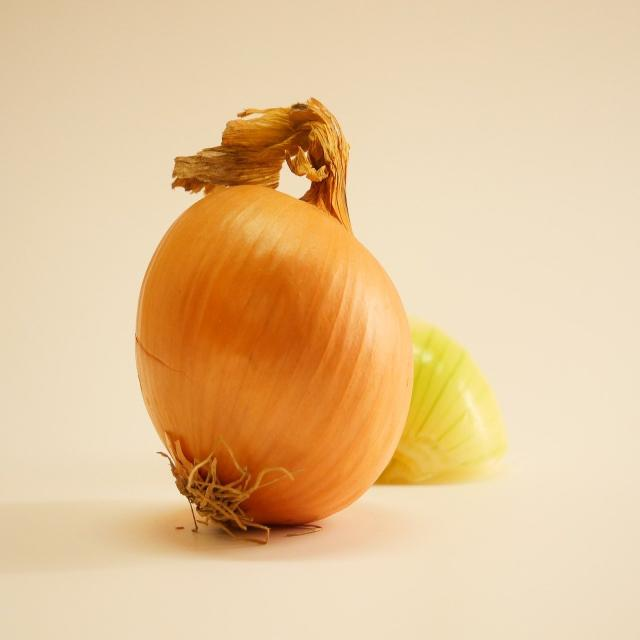onion: (133, 89, 517, 545)
